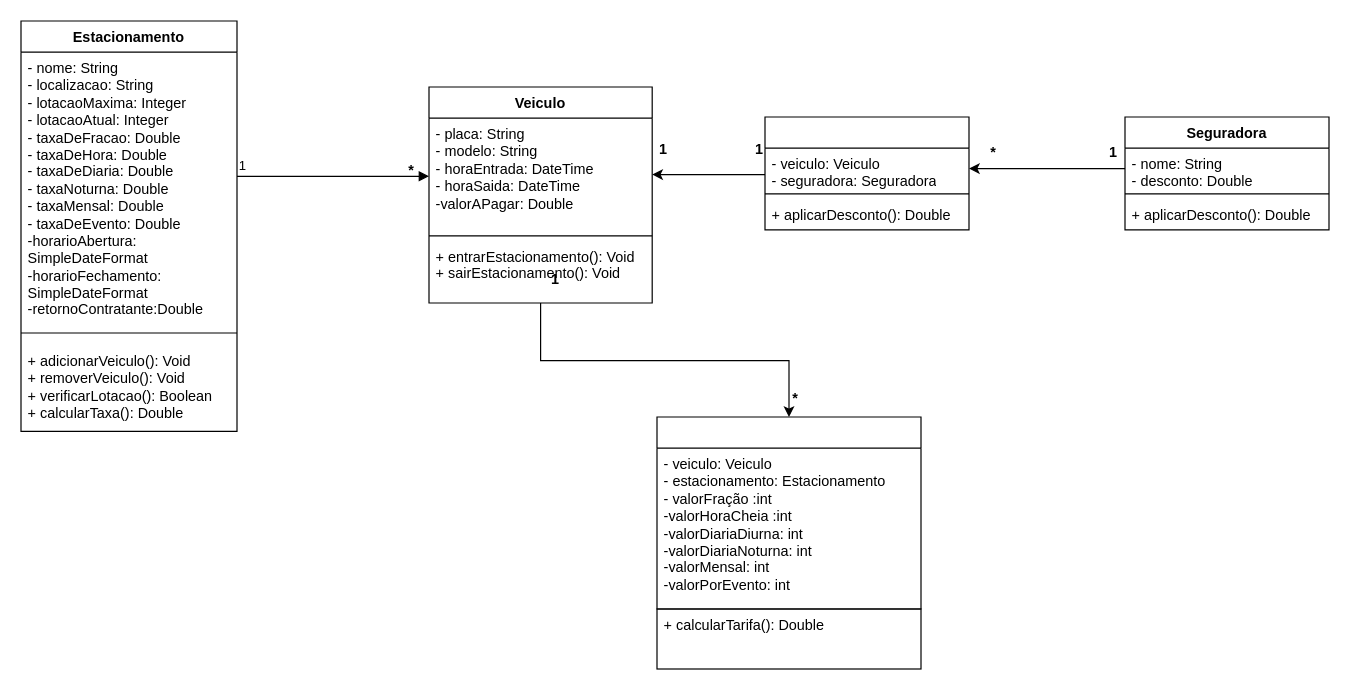
Image size: 1350x694. Some labels were removed from this diagram. Each missing label, with the box of its shape:
Acesso: (656, 416, 921, 609)
Seguro: (764, 116, 969, 230)
